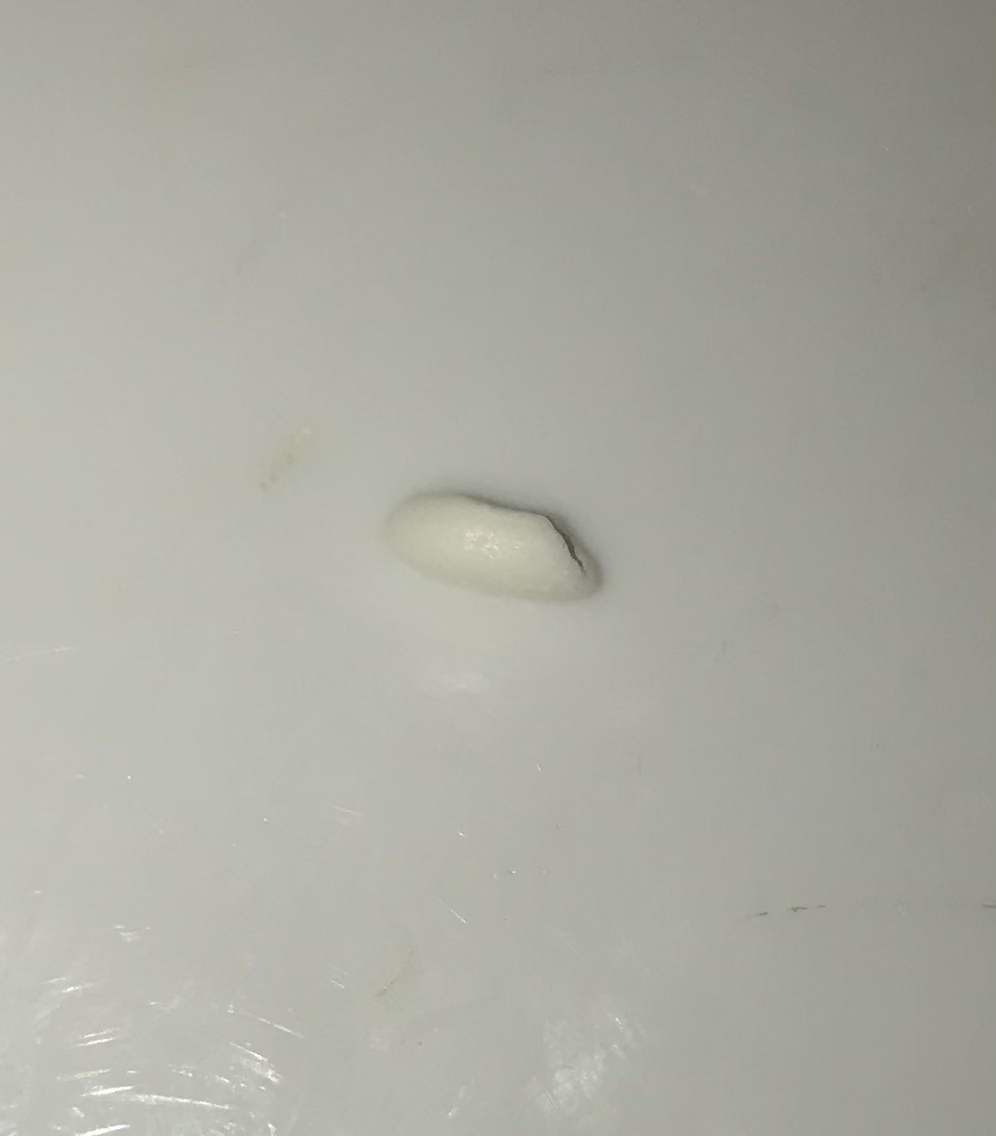Gao Nep Sap: (359, 463, 653, 651)
